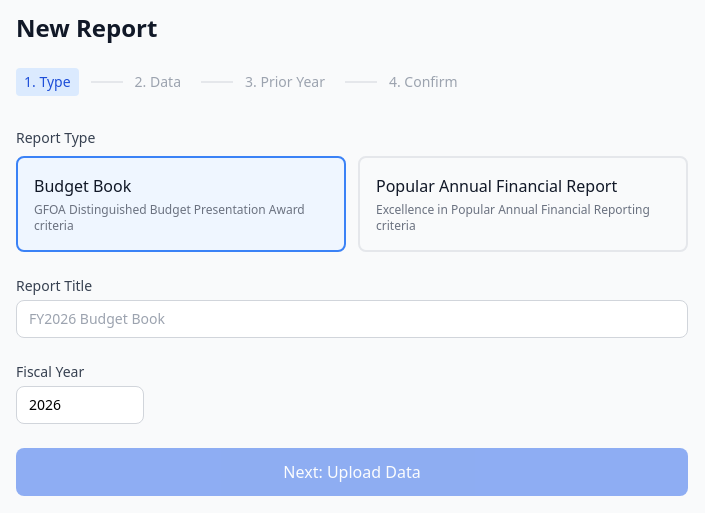
Test: NewReportPage › enables Next when title is filled
The width and height of the screenshot is (705, 513).
Type "My Report" into the field with placeholder "FY2026 Budget Book" at (352, 319), box x1=16 y1=300 x2=688 y2=338
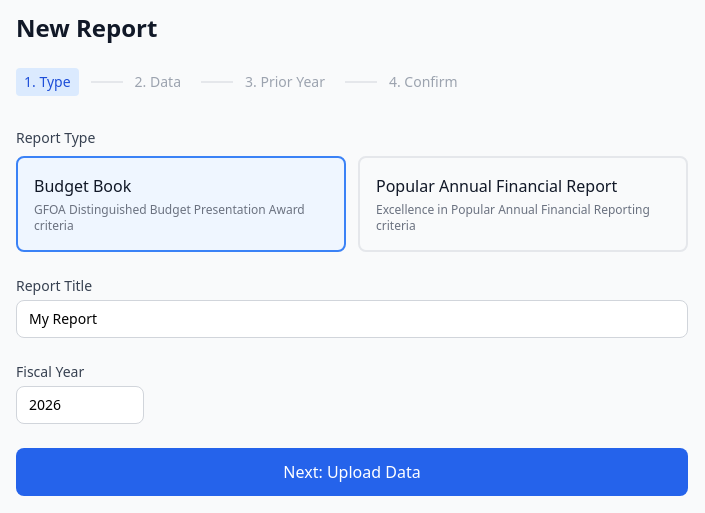
Expected: the button "Next: Upload Data" is enabled, x1=16 y1=448 x2=688 y2=496
